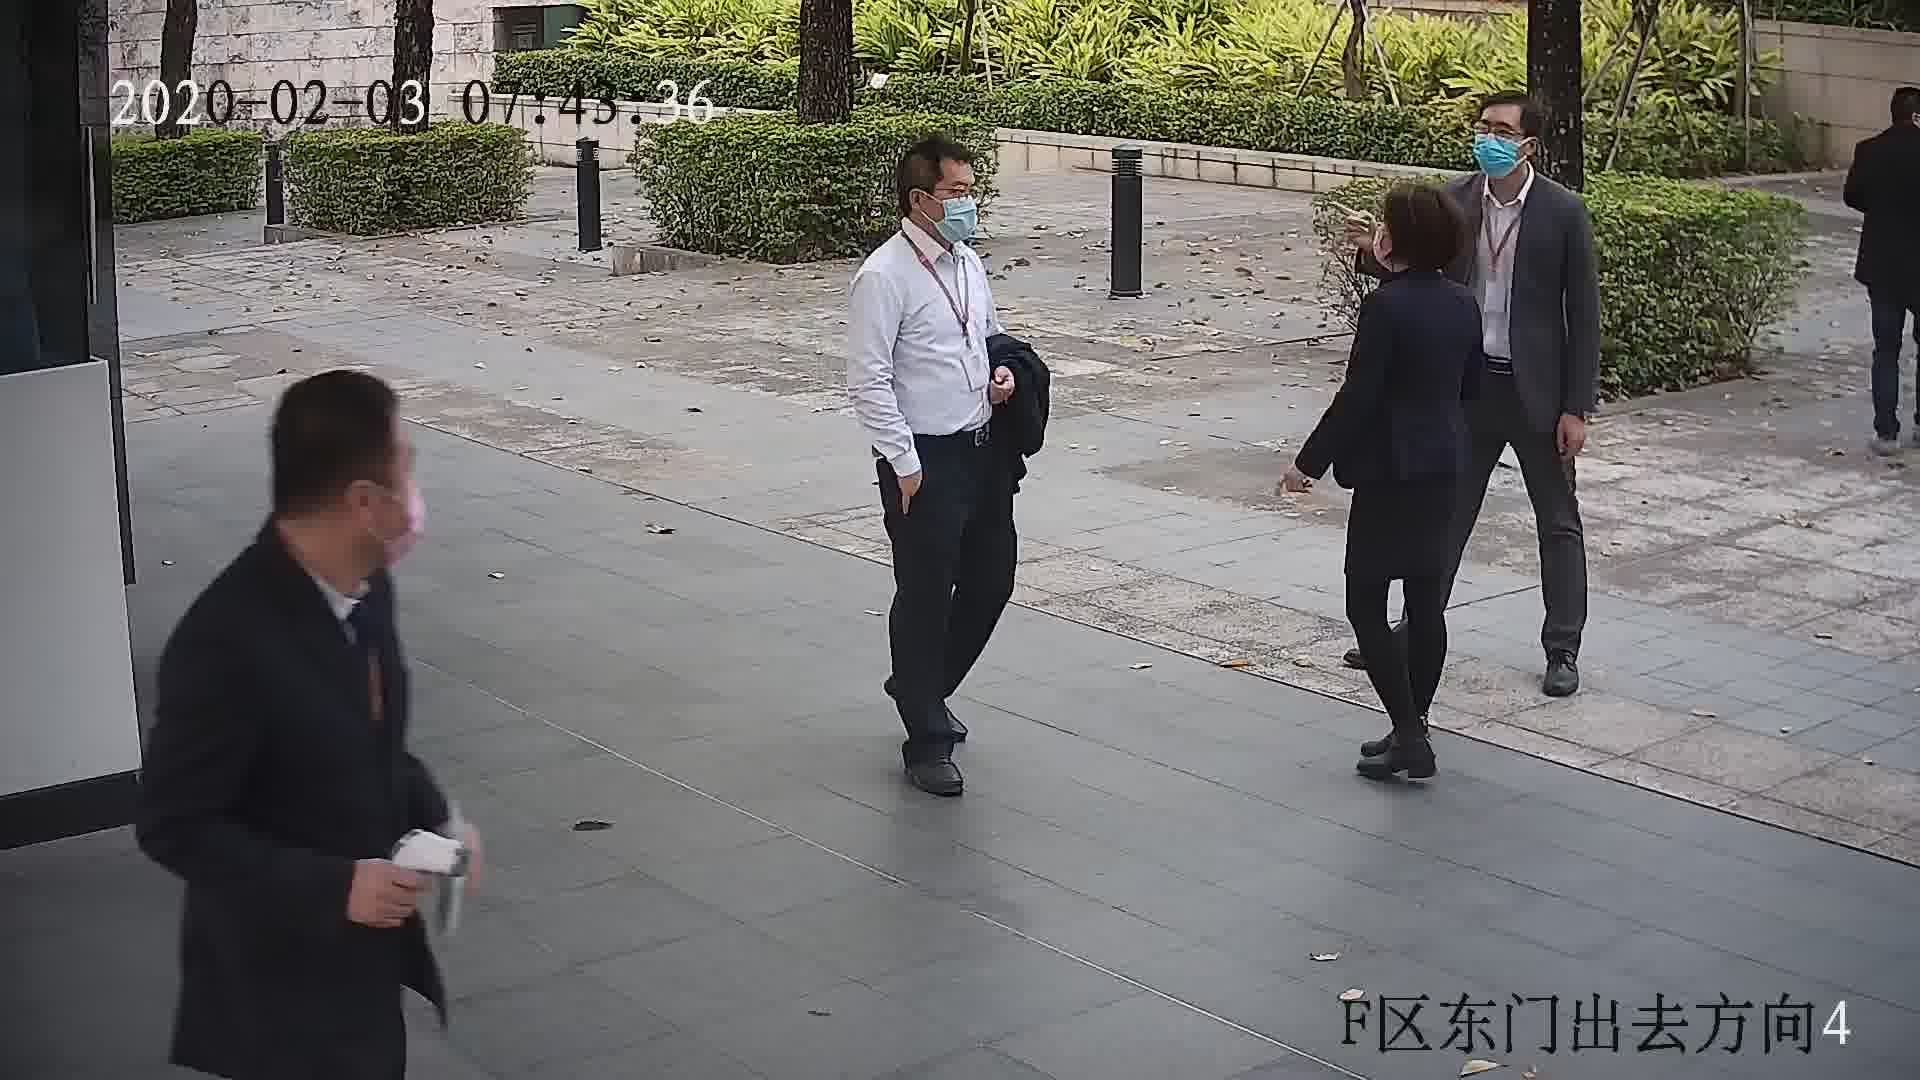face: (323, 412, 425, 568), (916, 151, 980, 245), (1473, 105, 1525, 183)
mask: (366, 481, 432, 558), (930, 191, 978, 246), (1471, 131, 1525, 179)
person: (178, 372, 428, 690), (858, 139, 991, 297), (1358, 180, 1488, 332), (1457, 107, 1588, 236), (1854, 80, 1919, 176)
